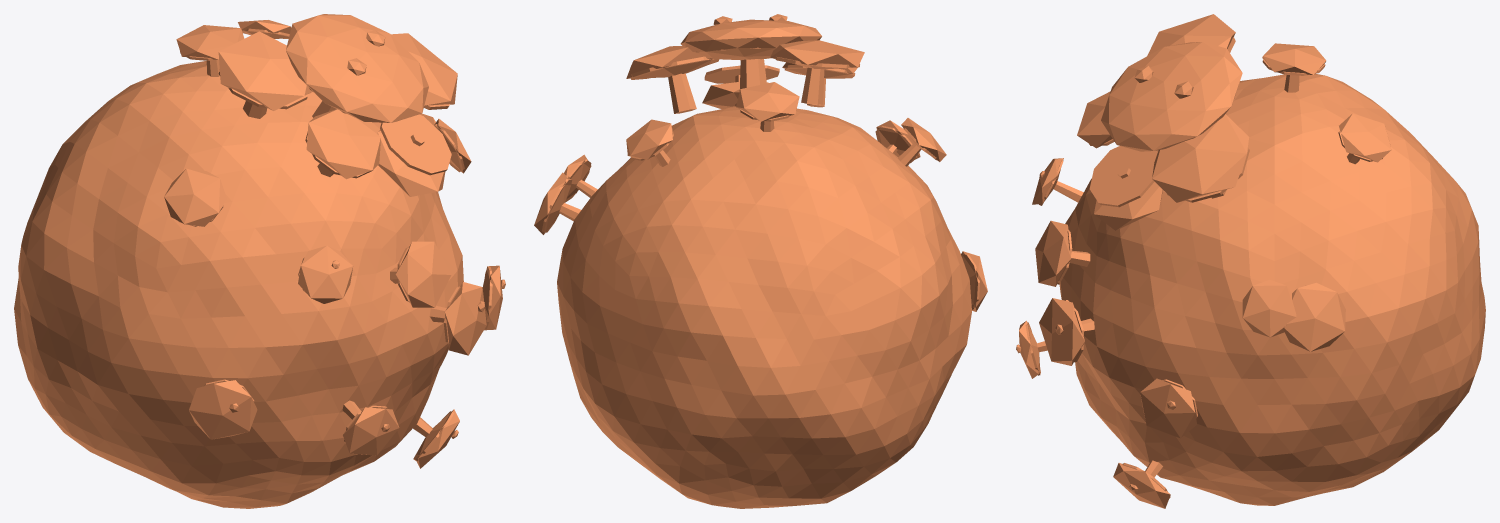
The model's file is Mushroom_06.fbx.
3 renders of one model, left to right at view 1: azimuth 30°, elevation 25°; view 2: azimuth 150°, elevation 25°; view 3: azimuth 270°, elevation 25°, orthographic. The views are drawn at different scales.
Visible parts, largest first — view 1: Mushroom_06; view 2: Mushroom_06; view 3: Mushroom_06.
Boxes of the visible parts, left/top/right/bottom form: Mushroom_06: left=14, top=14, right=505, bottom=508; Mushroom_06: left=534, top=14, right=987, bottom=508; Mushroom_06: left=1016, top=14, right=1485, bottom=508.
Bounding box in the file's own units: 6.5 × 7.09 × 6.6.
